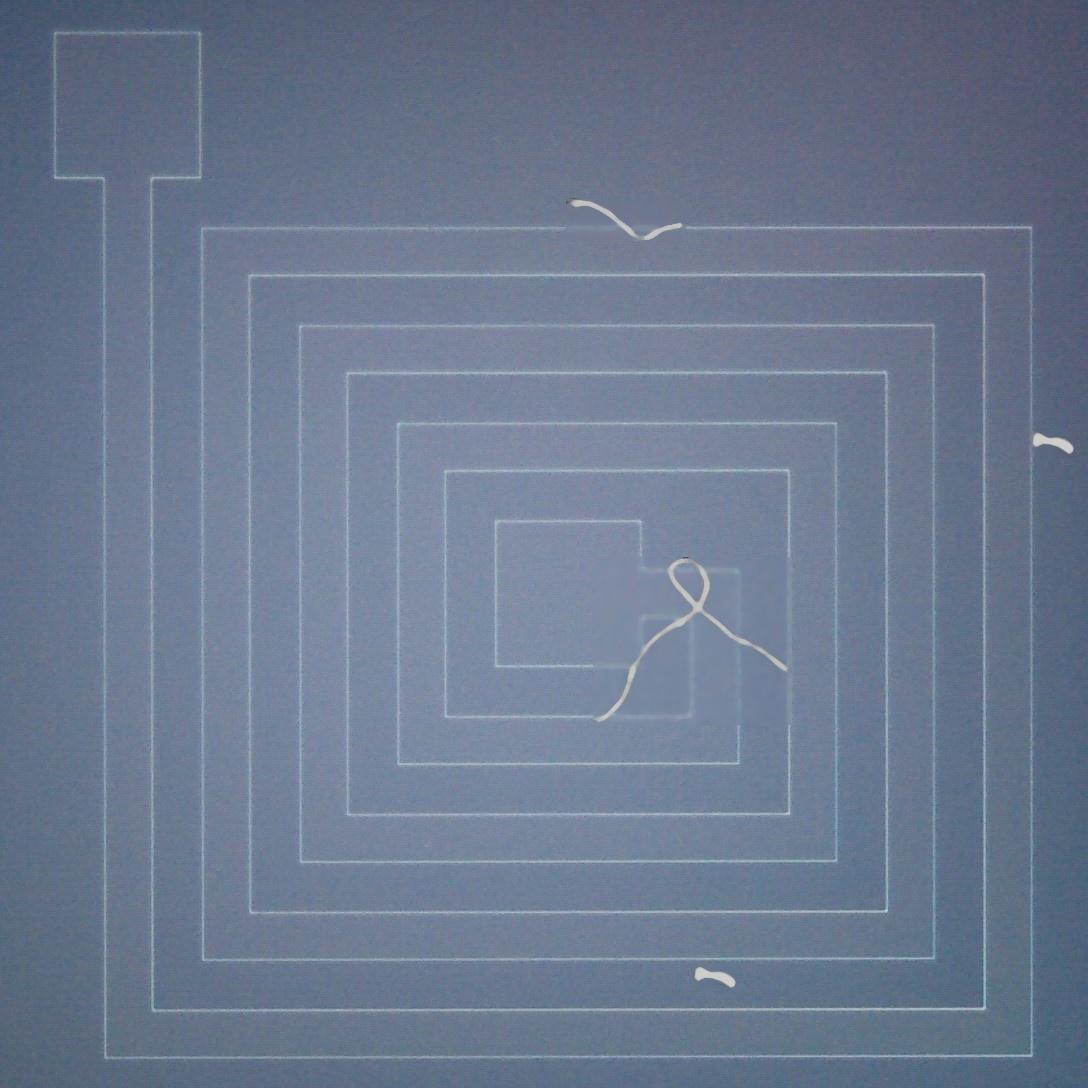foreign: (589, 546, 799, 729), (566, 193, 686, 244), (689, 959, 742, 996), (1027, 423, 1078, 458)
